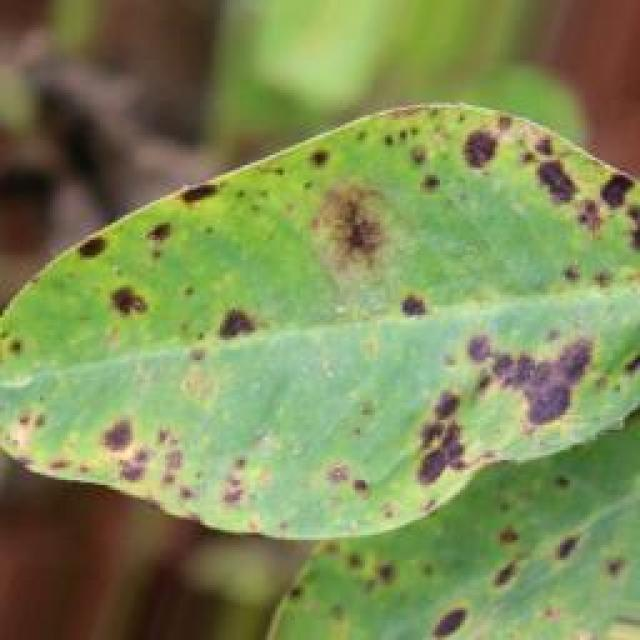Yellowish: (0, 85, 618, 626)
